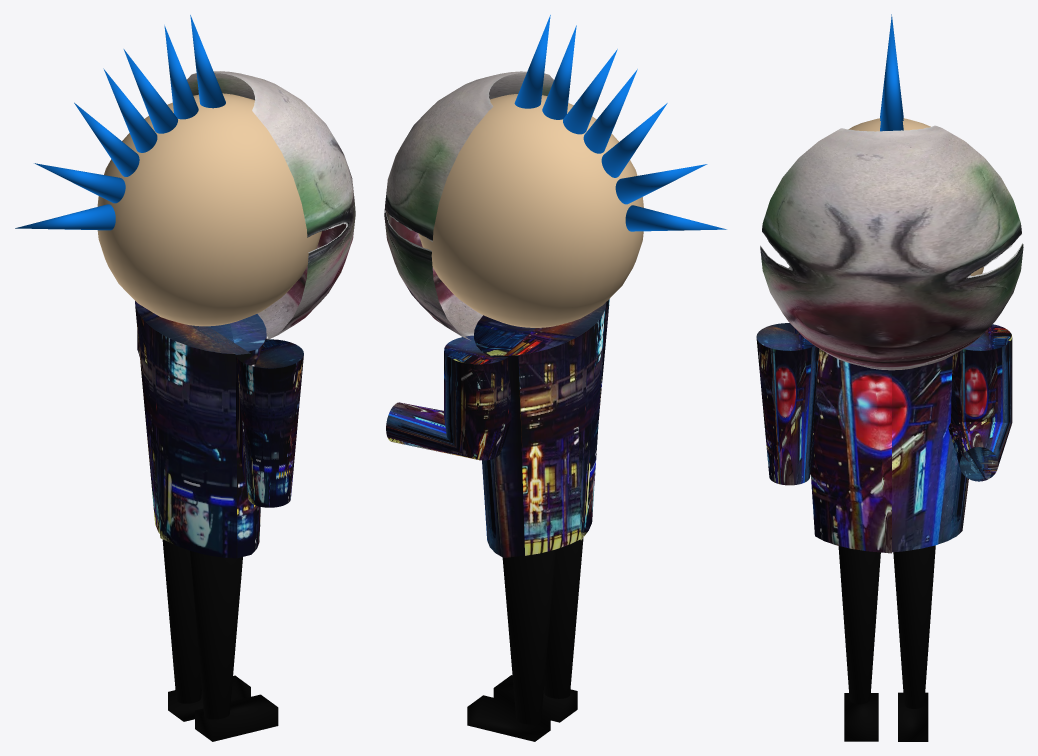
The model's file is clown.fbx.
3 views of the same model, side by side, from view 1: azimuth 30°, elevation 25°; view 2: azimuth 150°, elevation 25°; view 3: azimuth 270°, elevation 25° (orthographic). The views are drawn at different scales.
Parts seen in each view (by area): view 1: Head, Body, Cylinder.002, Cylinder.001; view 2: Head, Body, Cylinder.001, Cylinder.002; view 3: Head, Body, Cylinder.002, Cylinder.001.
Boxes of the visible parts, <box> form: Head: <box>15,15,355,339</box>; Body: <box>135,301,303,558</box>; Cylinder.002: <box>190,539,278,741</box>; Cylinder.001: <box>162,539,250,721</box>; Head: <box>384,15,726,340</box>; Body: <box>386,299,609,557</box>; Cylinder.001: <box>467,549,555,741</box>; Cylinder.002: <box>493,537,583,722</box>; Head: <box>760,14,1023,370</box>; Body: <box>756,323,1012,553</box>; Cylinder.002: <box>838,546,880,741</box>; Cylinder.001: <box>893,545,935,741</box>.
Bounding box in the file's own units: 268 × 562 × 199.
